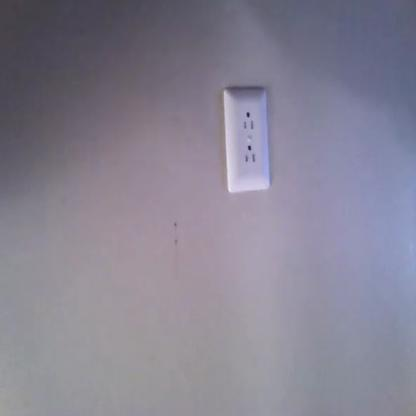OUTLET: (225, 89, 267, 192)
